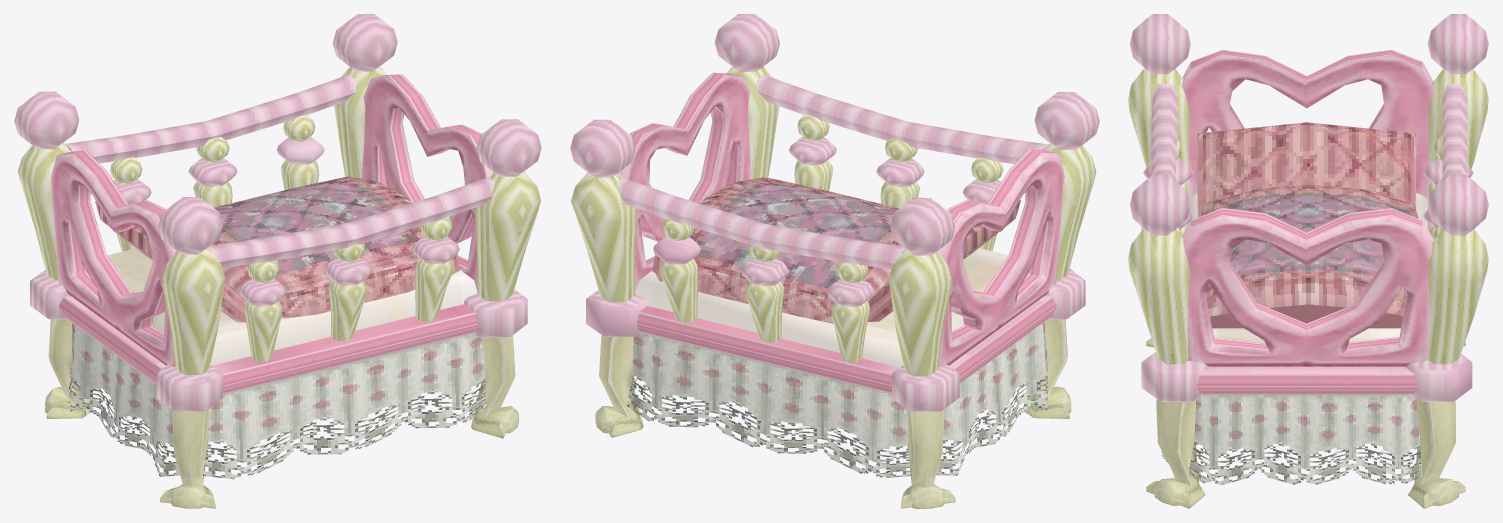
The model's file is bed24.glb.
3 views of the same model, side by side, from view 1: azimuth 30°, elevation 25°; view 2: azimuth 150°, elevation 25°; view 3: azimuth 270°, elevation 25° (orthographic). The views are drawn at different scales.
Parts seen in each view (by area): view 1: bed24; view 2: bed24; view 3: bed24.
Boxes of the visible parts, x1,y1,x2,y2 form: bed24: (14,14,541,508); bed24: (570,14,1099,508); bed24: (1128,14,1488,508).
Bounding box in the file's own units: 266 × 214 × 218.
8 materials, 8 textured.
